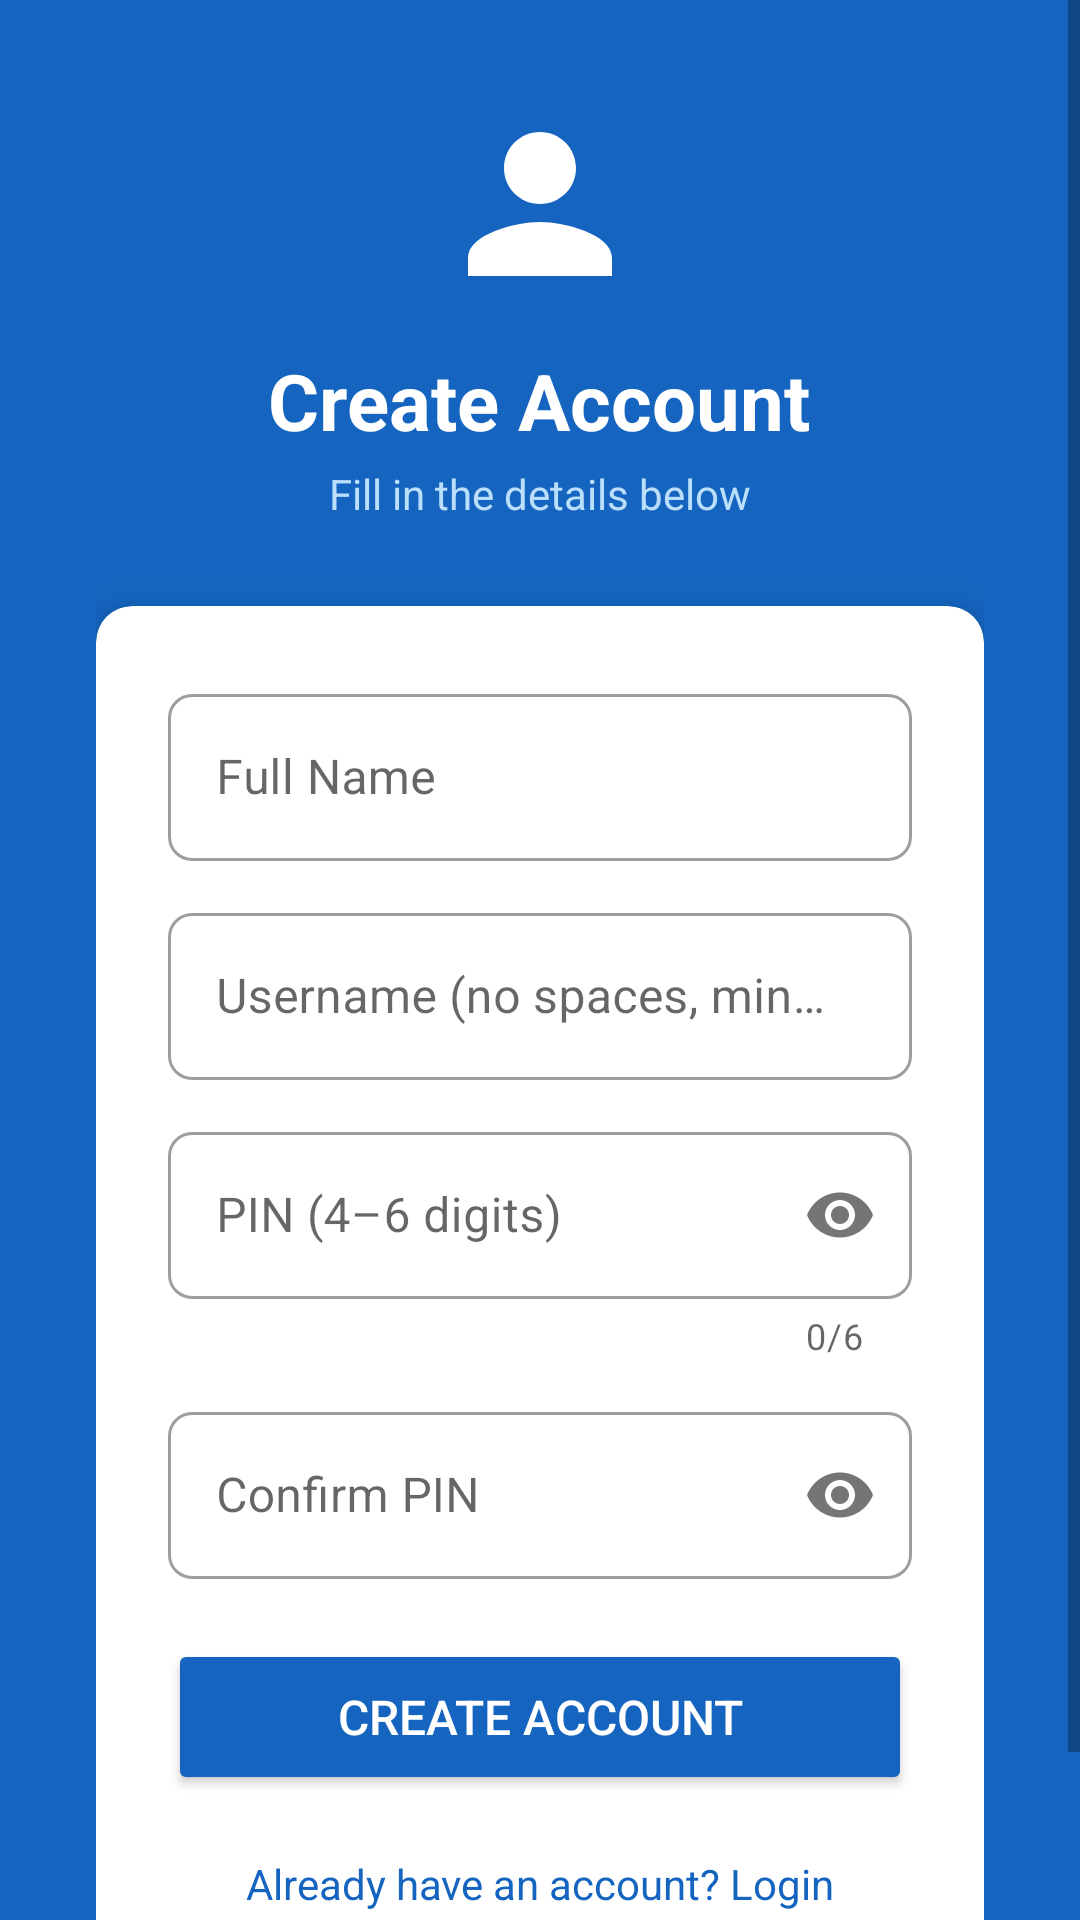

Icon click points for this 1080x1920 phone screenshot, format (x=x, y=y):
Register: (x=540, y=204)
